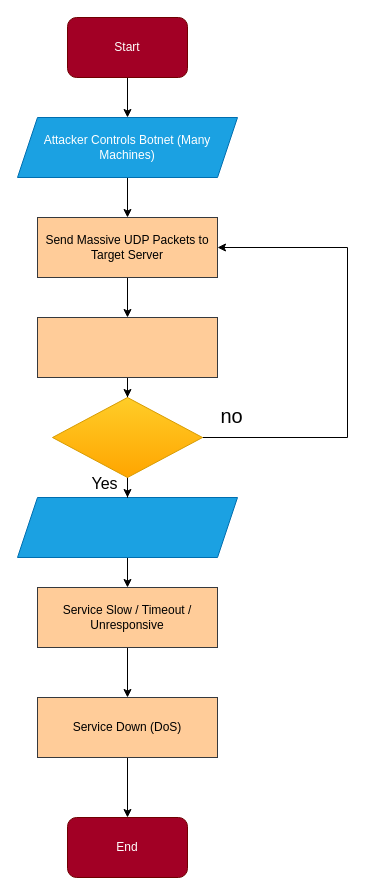
This 373x895 diagram has some shape labels left out. Here are the shapes that lost their labels. From the top down, the centre of each, then its label:
the point at 127,347: Server Receives Huge UDP Traffic
the point at 127,437: Server Resources Overloaded?
the point at 127,527: High CPU / Bandwidth Usage Packet Loss / Drop
